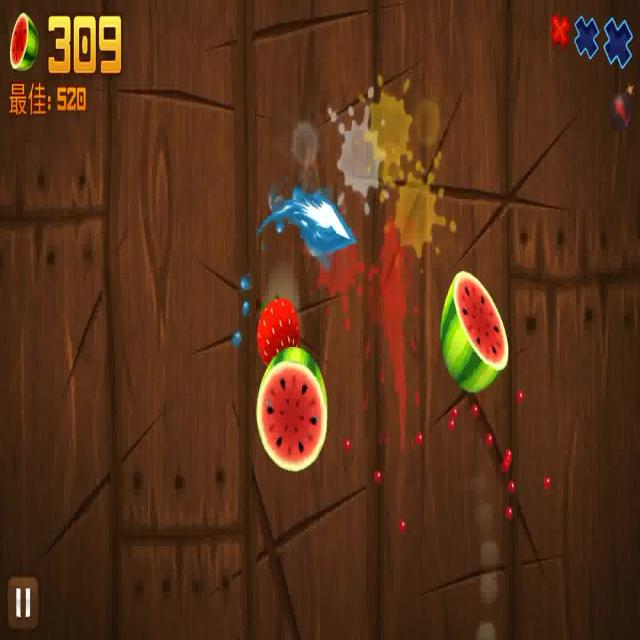fruit: (436, 264, 516, 387), (256, 349, 326, 472), (249, 284, 298, 371)
